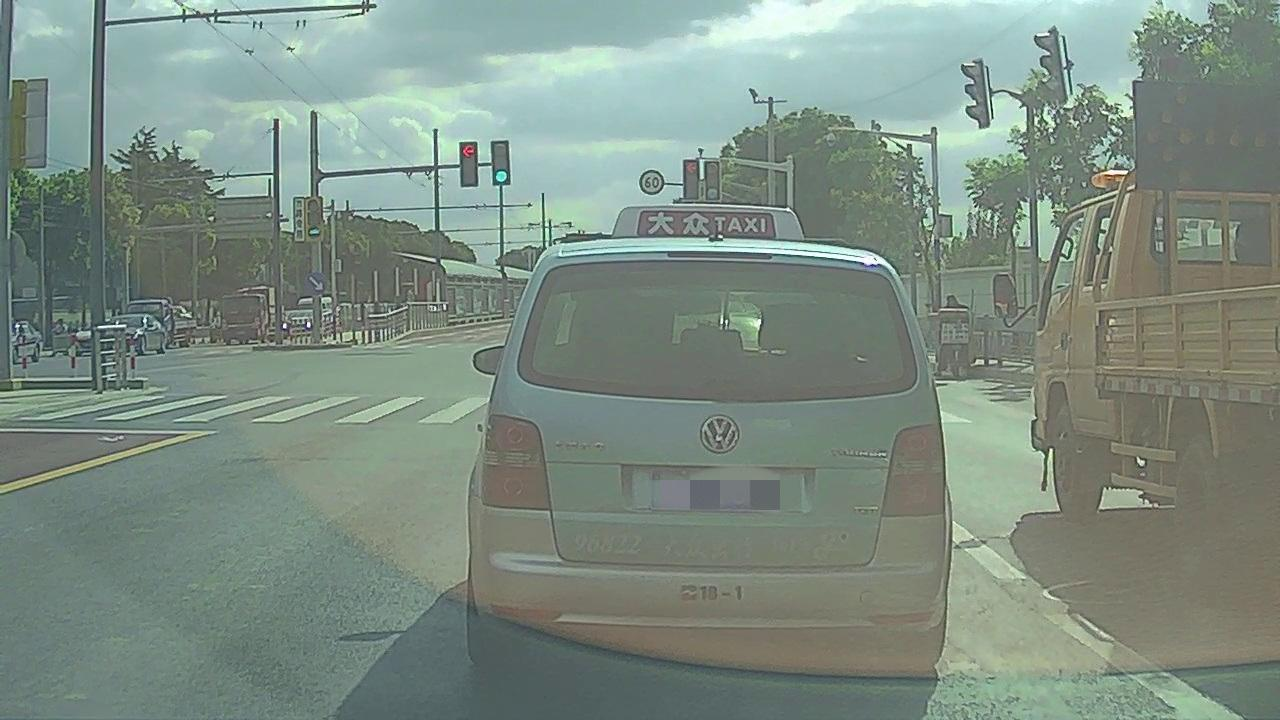traffic_light: (460, 142, 478, 186), (494, 142, 511, 186), (703, 161, 721, 199), (685, 158, 699, 196)
